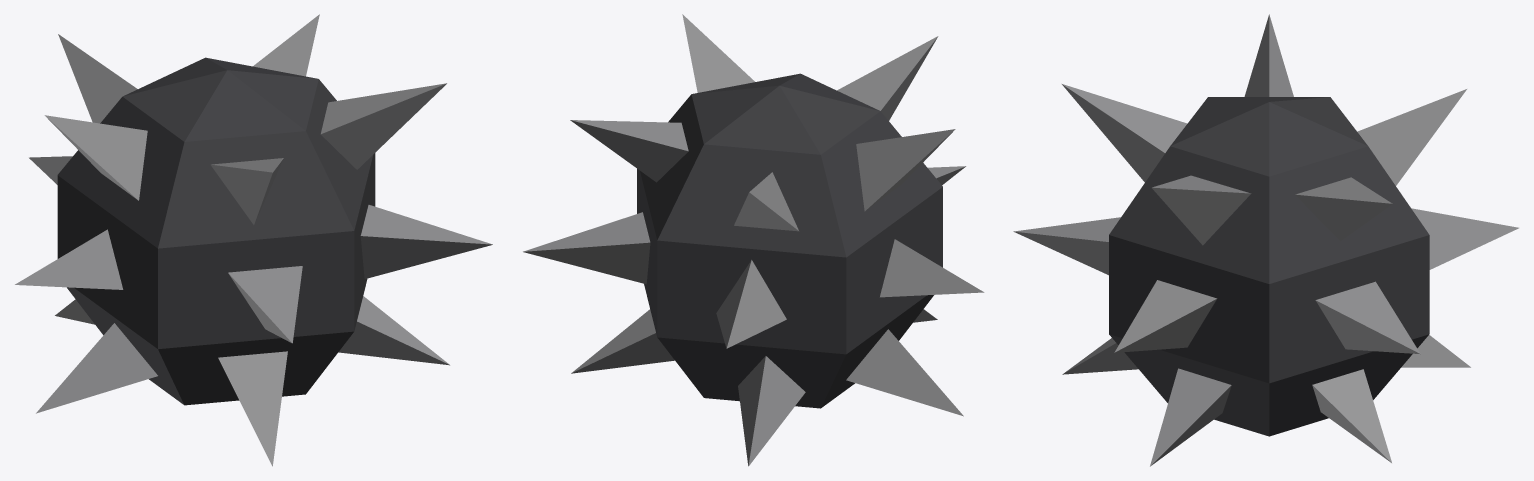
The model's file is bola_pincho.fbx.
3 renders of one model, left to right at view 1: azimuth 30°, elevation 25°; view 2: azimuth 150°, elevation 25°; view 3: azimuth 270°, elevation 25°, orthographic. The views are drawn at different scales.
Visible parts, largest first — view 1: pSphere2; view 2: pSphere2; view 3: pSphere2.
Boxes of the visible parts, x1=… form: pSphere2: x1=15, y1=14, x2=492, y2=466; pSphere2: x1=523, y1=14, x2=984, y2=466; pSphere2: x1=1013, y1=14, x2=1518, y2=466.
Size of the model in its own units: 2.59 by 2 by 2.86.
